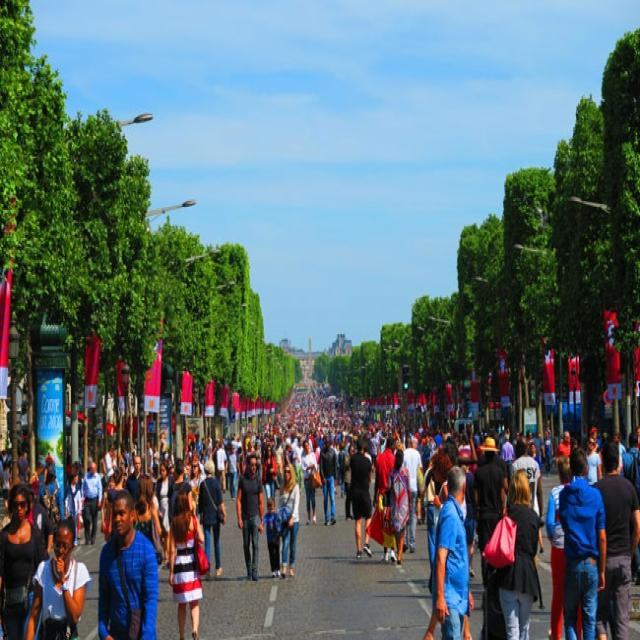body: (478, 464, 546, 639), (588, 440, 640, 640), (95, 485, 162, 638), (558, 445, 608, 640), (21, 510, 92, 638), (431, 462, 475, 640), (544, 455, 584, 640), (471, 432, 512, 612), (166, 486, 211, 638), (0, 480, 43, 639), (99, 433, 205, 488), (304, 422, 554, 444), (508, 436, 547, 576), (264, 377, 380, 423), (0, 448, 61, 525), (233, 451, 266, 582), (194, 455, 227, 581), (204, 423, 305, 461), (371, 435, 398, 566), (387, 446, 413, 566), (274, 458, 300, 578), (131, 472, 164, 566), (348, 436, 373, 560), (621, 430, 640, 587), (401, 433, 425, 554), (256, 494, 285, 579), (155, 460, 177, 572), (79, 458, 104, 547), (299, 438, 323, 526), (317, 433, 339, 528), (421, 466, 442, 563), (414, 442, 436, 525), (62, 467, 84, 548), (333, 442, 354, 502), (64, 442, 93, 482), (342, 442, 356, 522), (125, 452, 146, 503), (584, 433, 604, 486), (215, 460, 241, 500), (446, 442, 479, 473), (260, 460, 284, 498), (100, 486, 114, 544), (529, 442, 555, 473), (612, 430, 628, 476), (554, 428, 573, 462), (312, 442, 322, 491), (586, 424, 603, 452), (367, 442, 382, 473), (498, 442, 517, 466), (294, 459, 304, 494), (75, 508, 84, 540), (634, 423, 640, 458), (568, 436, 579, 454), (596, 451, 602, 483), (380, 414, 396, 424), (113, 486, 123, 495)
